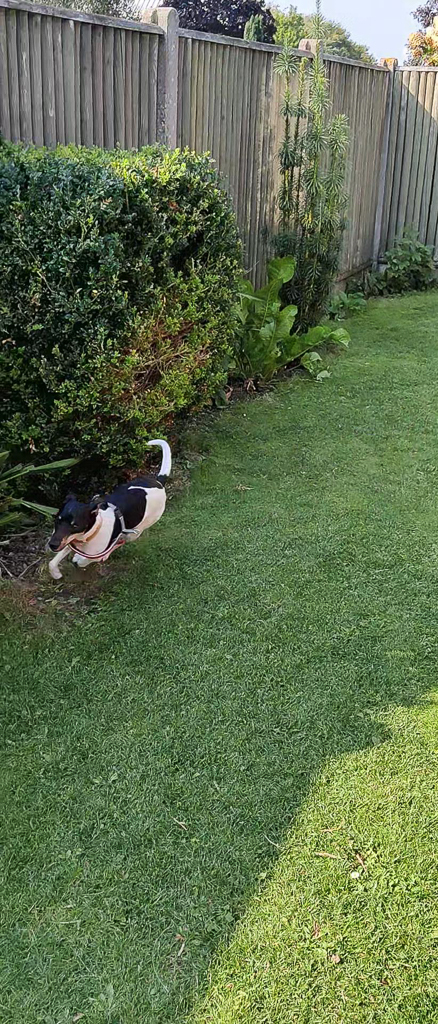Dog: (32, 427, 187, 595)
